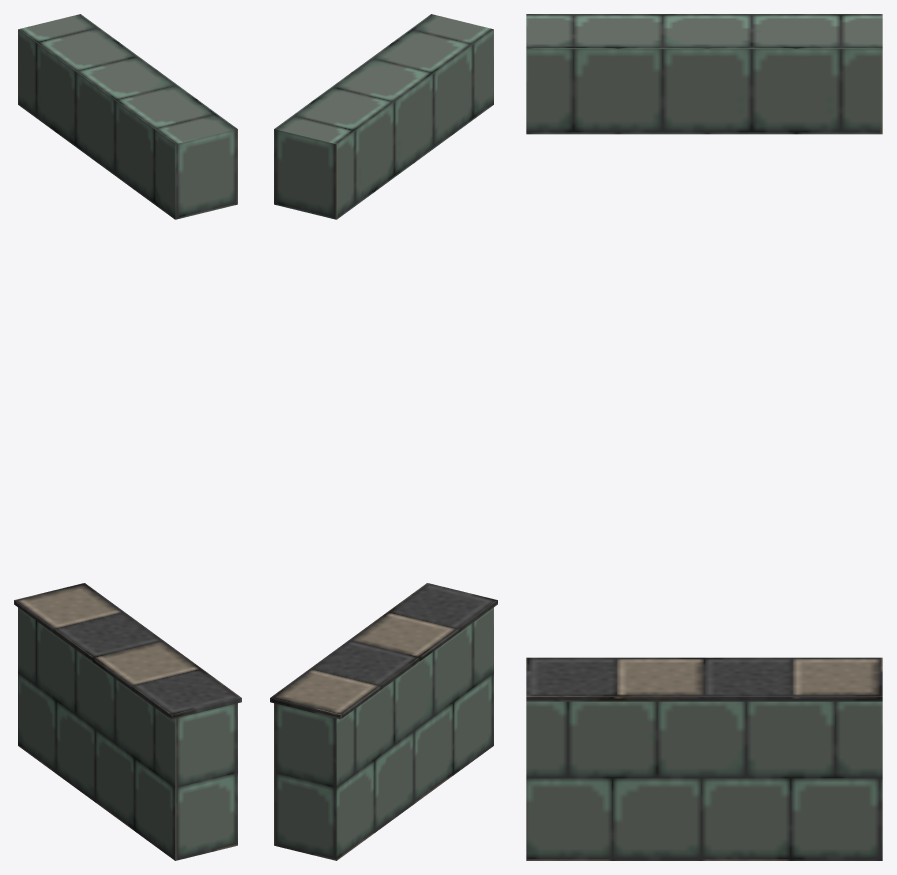
The model's file is obj_wallOpen_1x2m_v1.fbx.
3 views of the same model, side by side, from view 1: azimuth 30°, elevation 25°; view 2: azimuth 150°, elevation 25°; view 3: azimuth 270°, elevation 25° (orthographic). The views are drawn at different scales.
Parts seen in each view (by area): view 1: obj_wallOpen_1x2m_v1; view 2: obj_wallOpen_1x2m_v1; view 3: obj_wallOpen_1x2m_v1.
Boxes of the visible parts, box(x1,y1,x2,y2) form: obj_wallOpen_1x2m_v1: box(14, 14, 241, 860); obj_wallOpen_1x2m_v1: box(270, 14, 497, 860); obj_wallOpen_1x2m_v1: box(526, 14, 882, 860).
Bounding box in the file's own units: 25.98 × 252 × 100.
